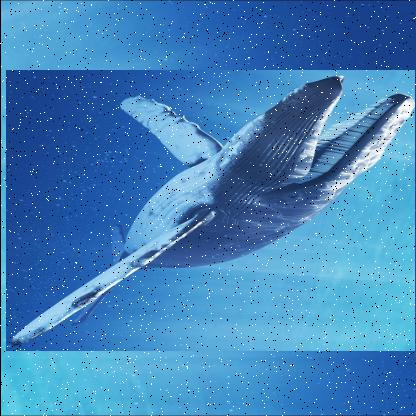blue_whale: (5, 70, 415, 352)
